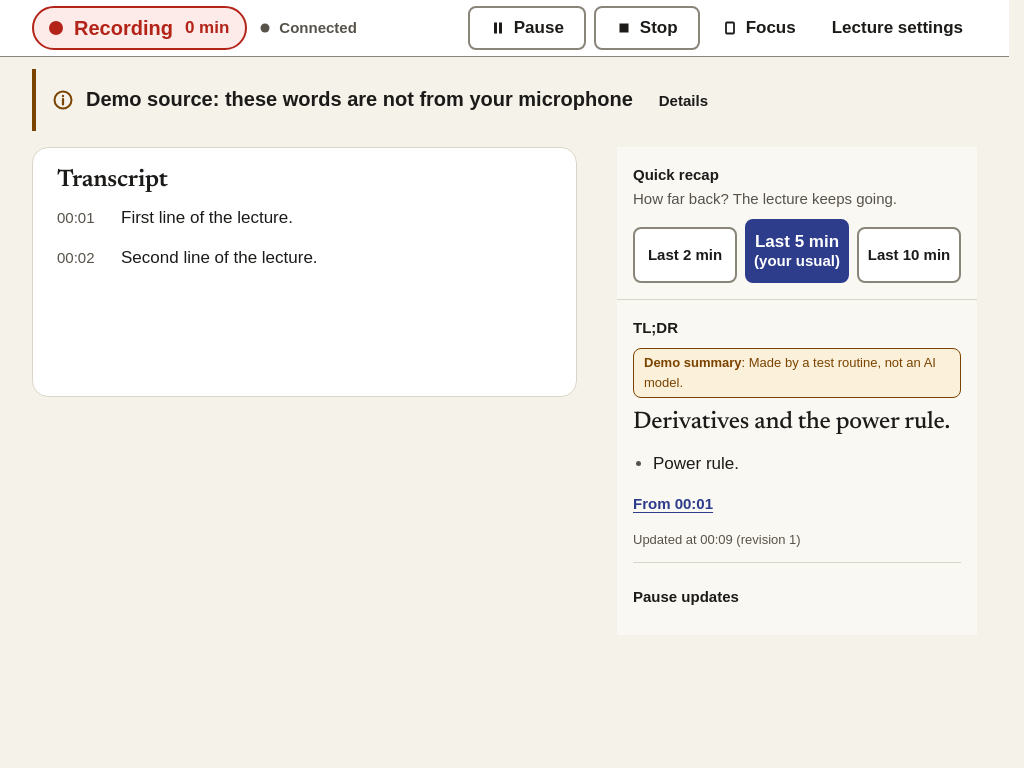
Scenario: Lecture screen redesign (design-direction slices 4-5) › desktop: the recap result opens as a sheet in the transcript column, before the transcript and outside the rail; heading focused; Close recap returns to the tra
Click the button "Last 5 min (your usual)": coordinates (797, 251) [745,219,849,283]
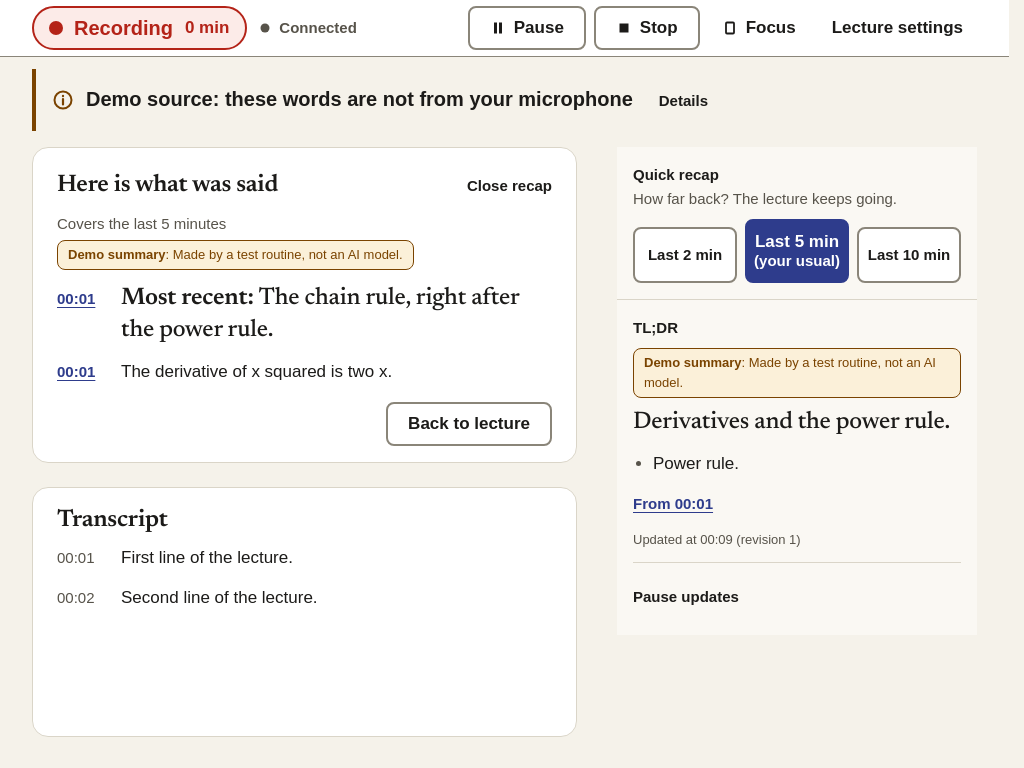
Result: the element with test id "demo-summary-tag" below "Covers the last 5 minutes" shows "Demo summary" at [68,247,166,262]
Result: the element with test id "demo-summary-tag" below "Covers the last 5 minutes" shows "Made by a test routine, not an AI model." at [173,247,403,262]
Result: the button "Back to lecture" is shown at [386,402,552,446]
Click the button "Close recap": coordinates (510, 186) [453,164,566,208]
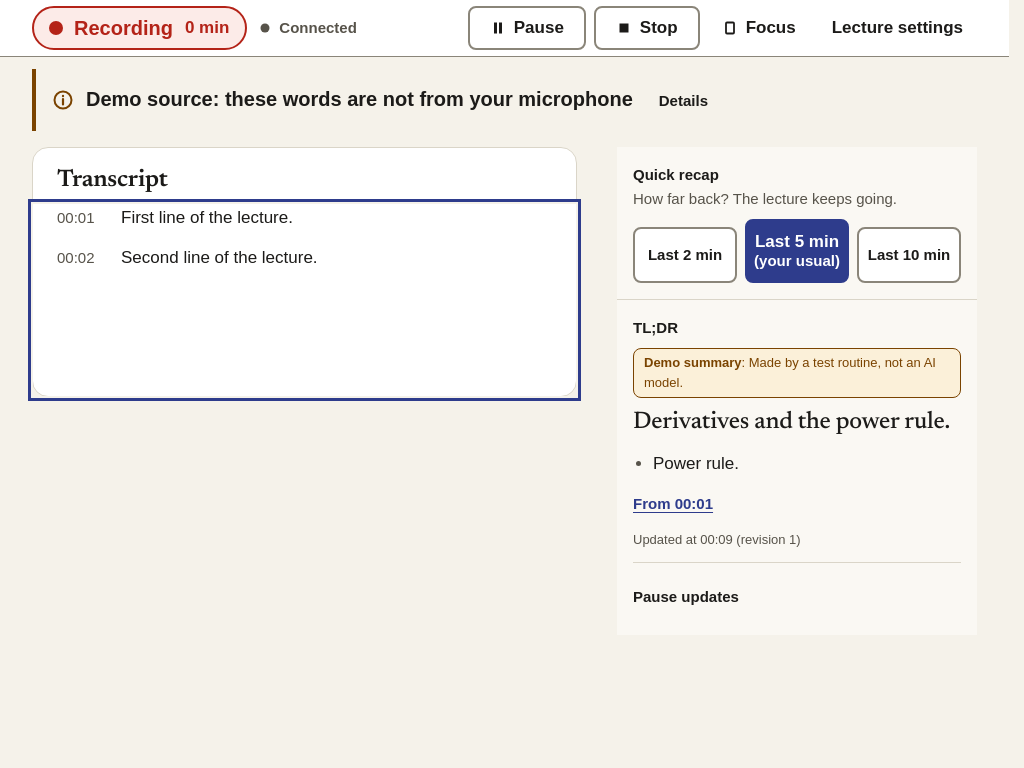
Result: the element with test id "catchup-result" is gone
